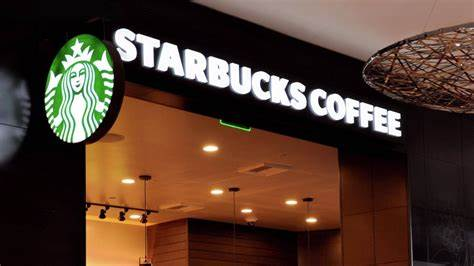starbucks Originale: (31, 31, 127, 144)
